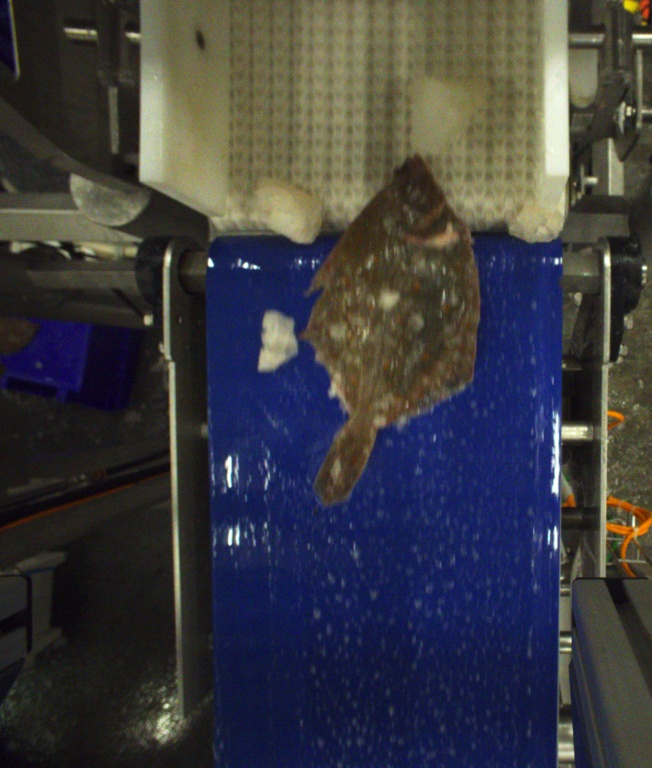PLE: (306, 151, 482, 506)
